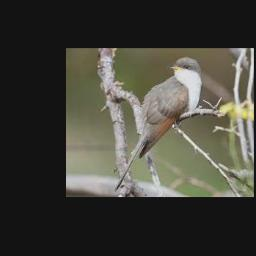Cuckoo: (114, 57, 203, 192)
